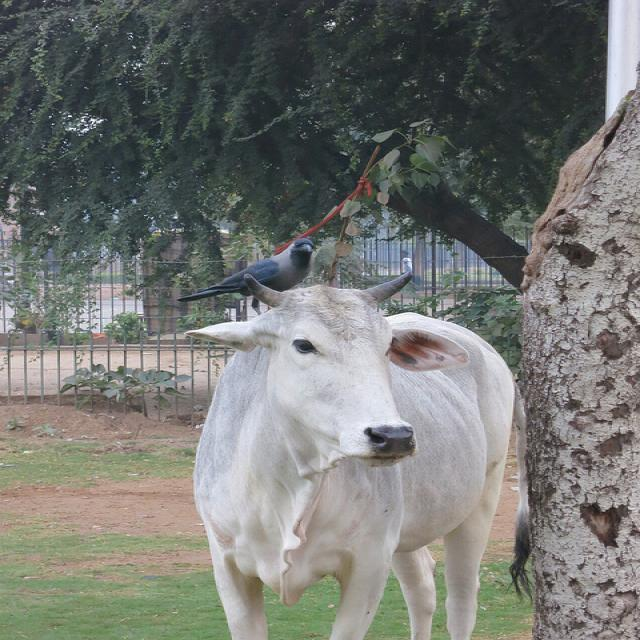cow: (176, 268, 545, 630)
